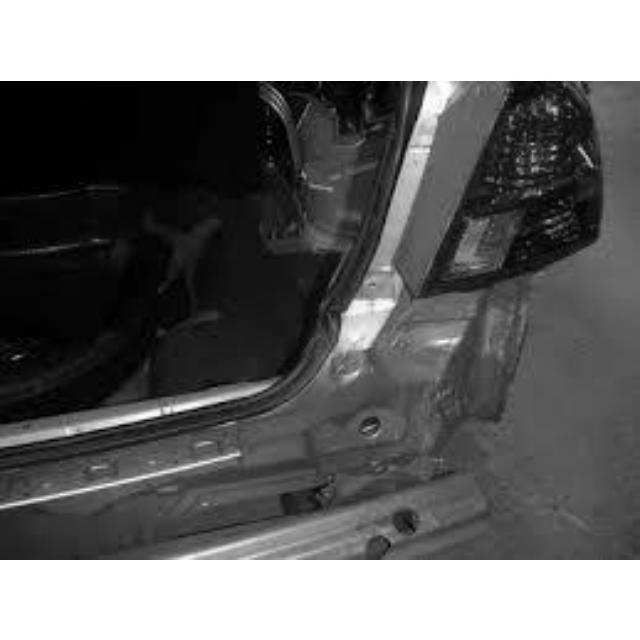rear-bumper-dent: (1, 365, 468, 557)
